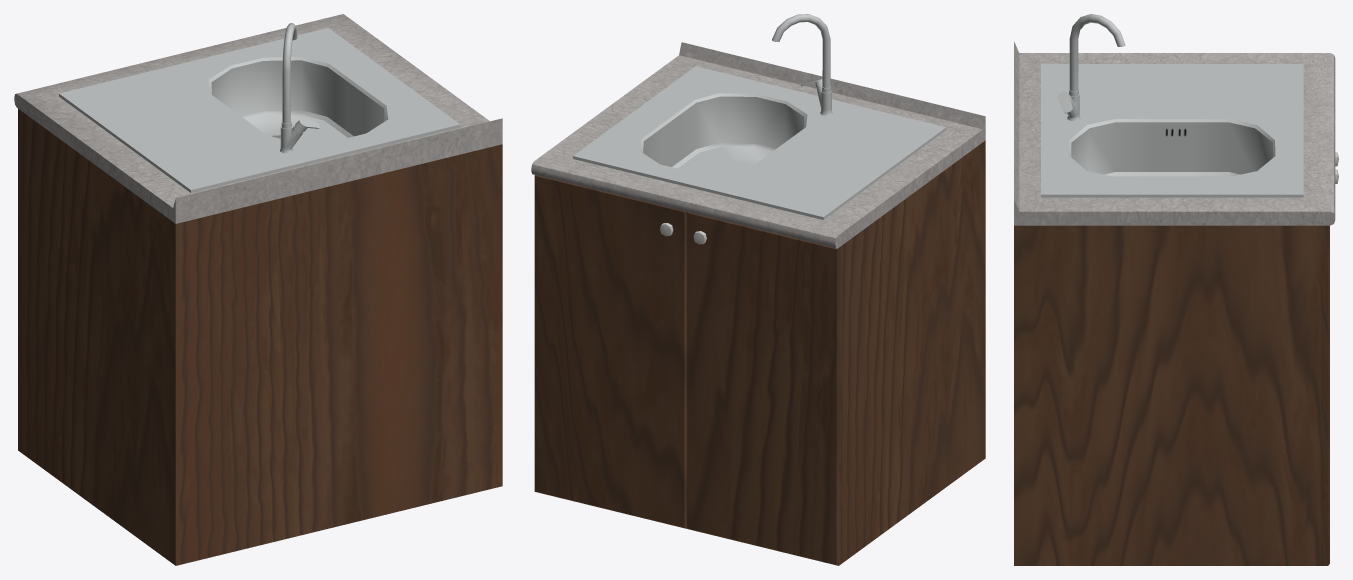
File: sink_unit.glb
3 renders of one model, left to right at view 1: azimuth 30°, elevation 25°; view 2: azimuth 150°, elevation 25°; view 3: azimuth 270°, elevation 25°, orthographic. The views are drawn at different scales.
Parts seen in each view (by area): view 1: KitchenCabinetWtichSink; view 2: KitchenCabinetWtichSink; view 3: KitchenCabinetWtichSink.
Part boxes in pixels (x1=…): KitchenCabinetWtichSink: x1=14, y1=14, x2=502, y2=565; KitchenCabinetWtichSink: x1=531, y1=14, x2=985, y2=565; KitchenCabinetWtichSink: x1=1014, y1=14, x2=1338, y2=565.
Size of the model in its own units: 0.8 by 1.1 by 0.6921.
1 material, 1 textured.
